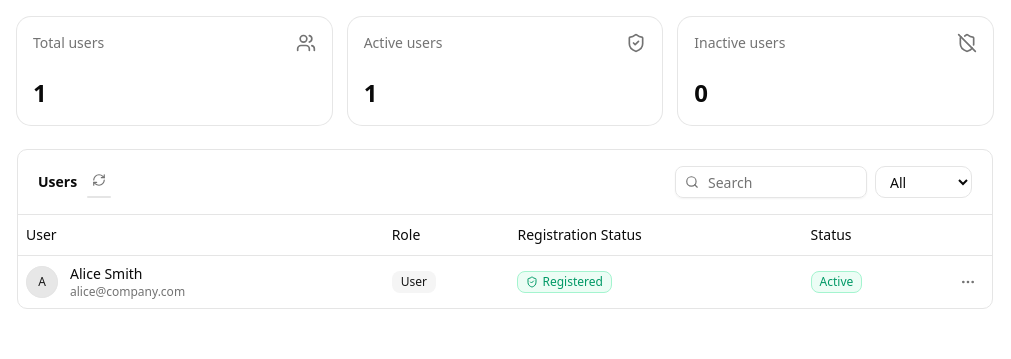
UsersTable — self row actions › shows only Edit for the logged-in user's own row
This screenshot has width=1011, height=359.
Click the button named "Actions for Alice" at [968, 282], box [952,266,984,298]
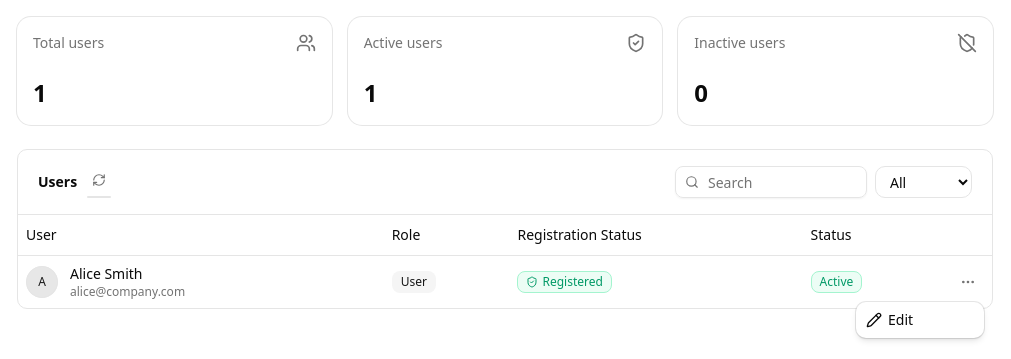
Expected: the menu item "Edit" is shown, [866,310,913,329]
